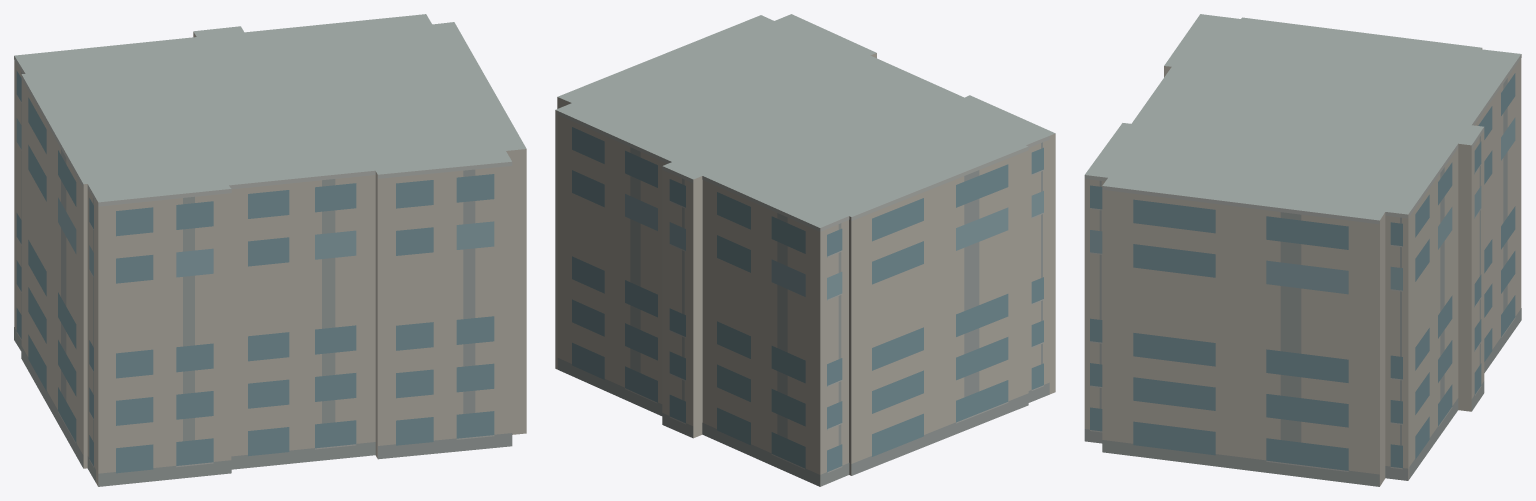
File: survey-upis-32856474.glb
The picture shows the model from 3 angles, left to right: view 1: azimuth 30°, elevation 25°; view 2: azimuth 150°, elevation 25°; view 3: azimuth 270°, elevation 25°; orthographic projection. The views are drawn at different scales.
Parts seen in each view (by area): view 1: survey-upis-32856474.tmp; view 2: survey-upis-32856474.tmp; view 3: survey-upis-32856474.tmp.
Part boxes in pixels (x1,y1,x2,y2): survey-upis-32856474.tmp: (14, 14, 526, 486); survey-upis-32856474.tmp: (555, 14, 1055, 486); survey-upis-32856474.tmp: (1084, 14, 1521, 486).
Bounding box in the file's own units: 27.61 × 16.6 × 24.68.
